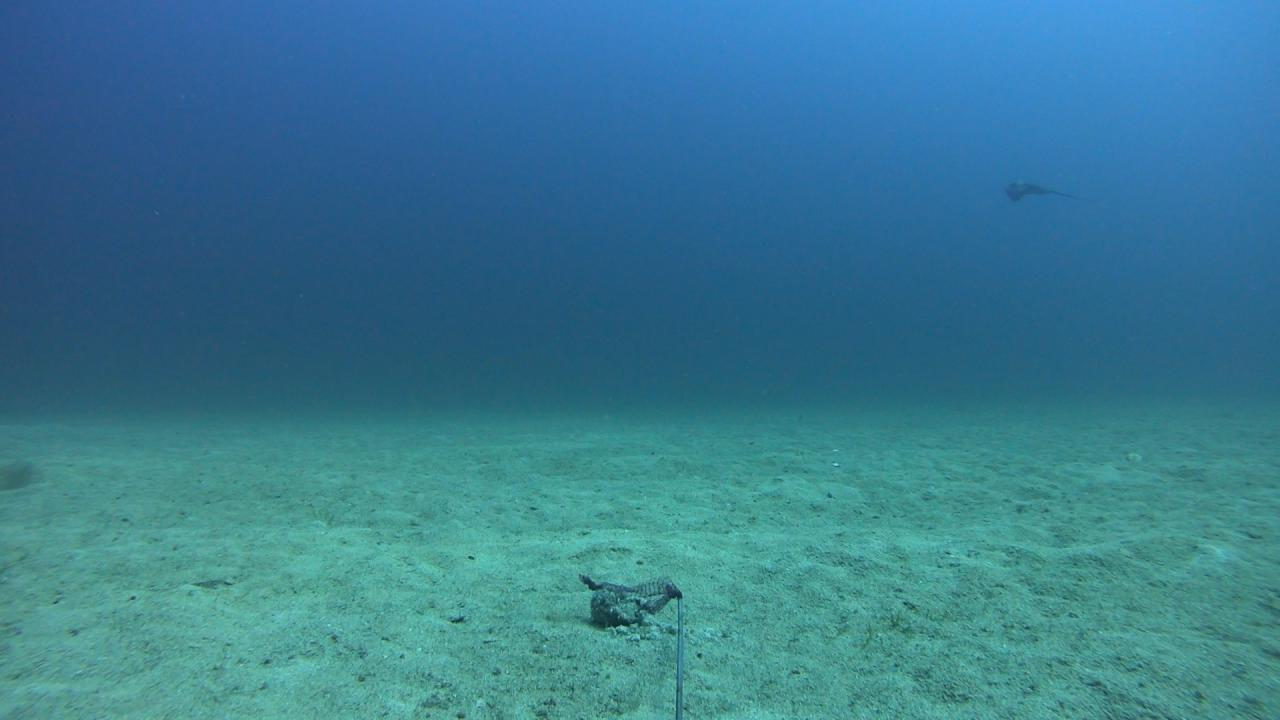dasyatis: (1002, 176, 1082, 200)
